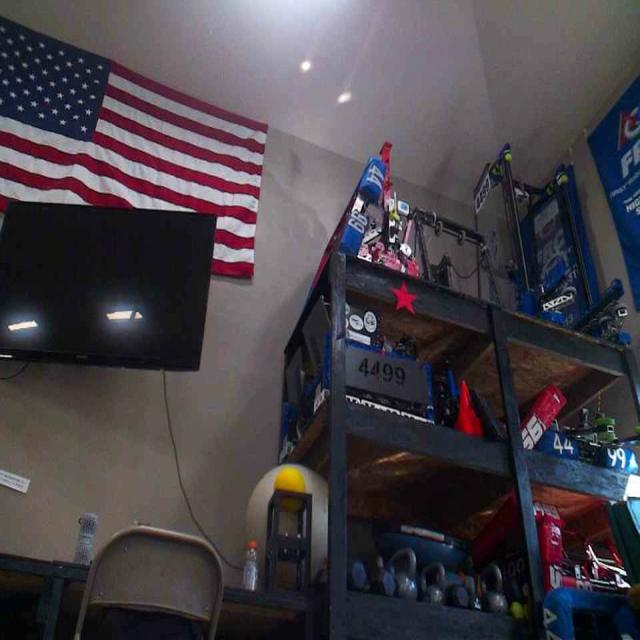star_red: (387, 279, 417, 315)
